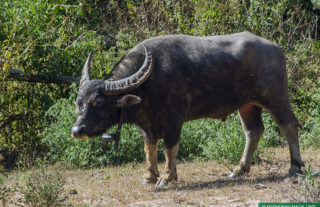buffalo: (73, 29, 306, 184)
